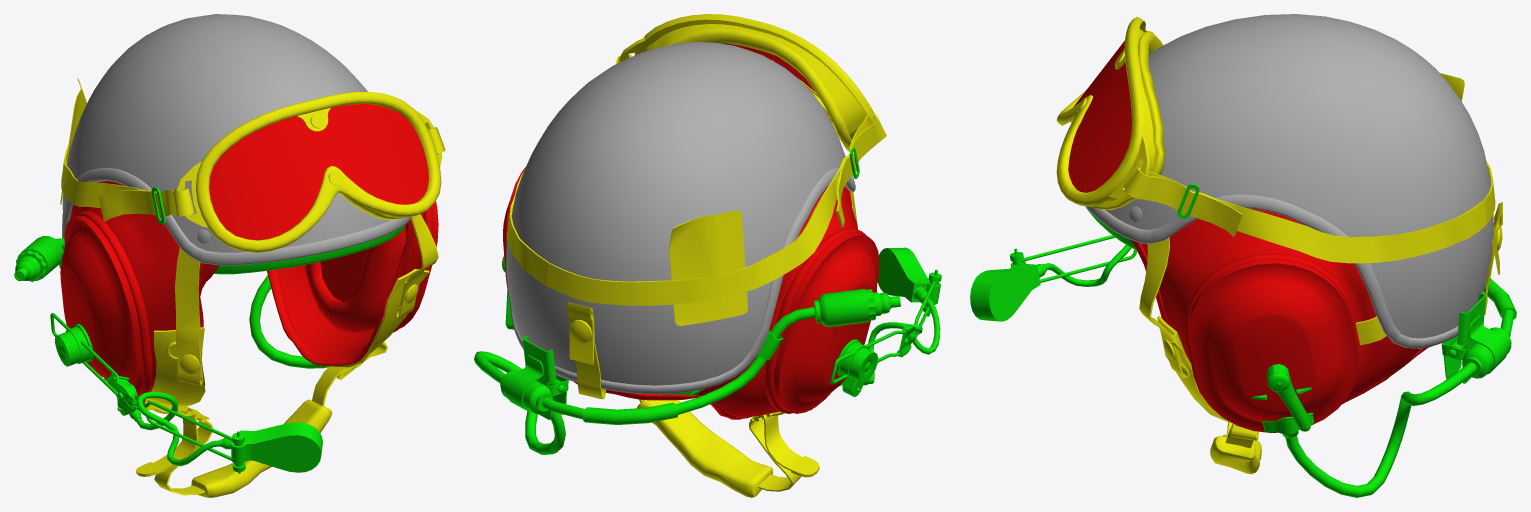
The model's file is Helmet1.fbx.
The picture shows the model from 3 angles, left to right: view 1: azimuth 30°, elevation 25°; view 2: azimuth 150°, elevation 25°; view 3: azimuth 270°, elevation 25°; orthographic projection. The views are drawn at different scales.
Parts seen in each view (by area): view 1: LO_Helmet_Assembled1; view 2: LO_Helmet_Assembled1; view 3: LO_Helmet_Assembled1.
Boxes of the visible parts, left/top/right/bottom form: LO_Helmet_Assembled1: left=14, top=14, right=445, bottom=497; LO_Helmet_Assembled1: left=474, top=14, right=941, bottom=497; LO_Helmet_Assembled1: left=970, top=14, right=1516, bottom=497.
Size of the model in its own units: 14.81 by 15.22 by 16.41.
